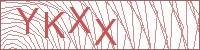K: (44, 11, 66, 38)
X: (68, 5, 93, 34), (95, 18, 118, 46)
Y: (15, 7, 40, 35)
